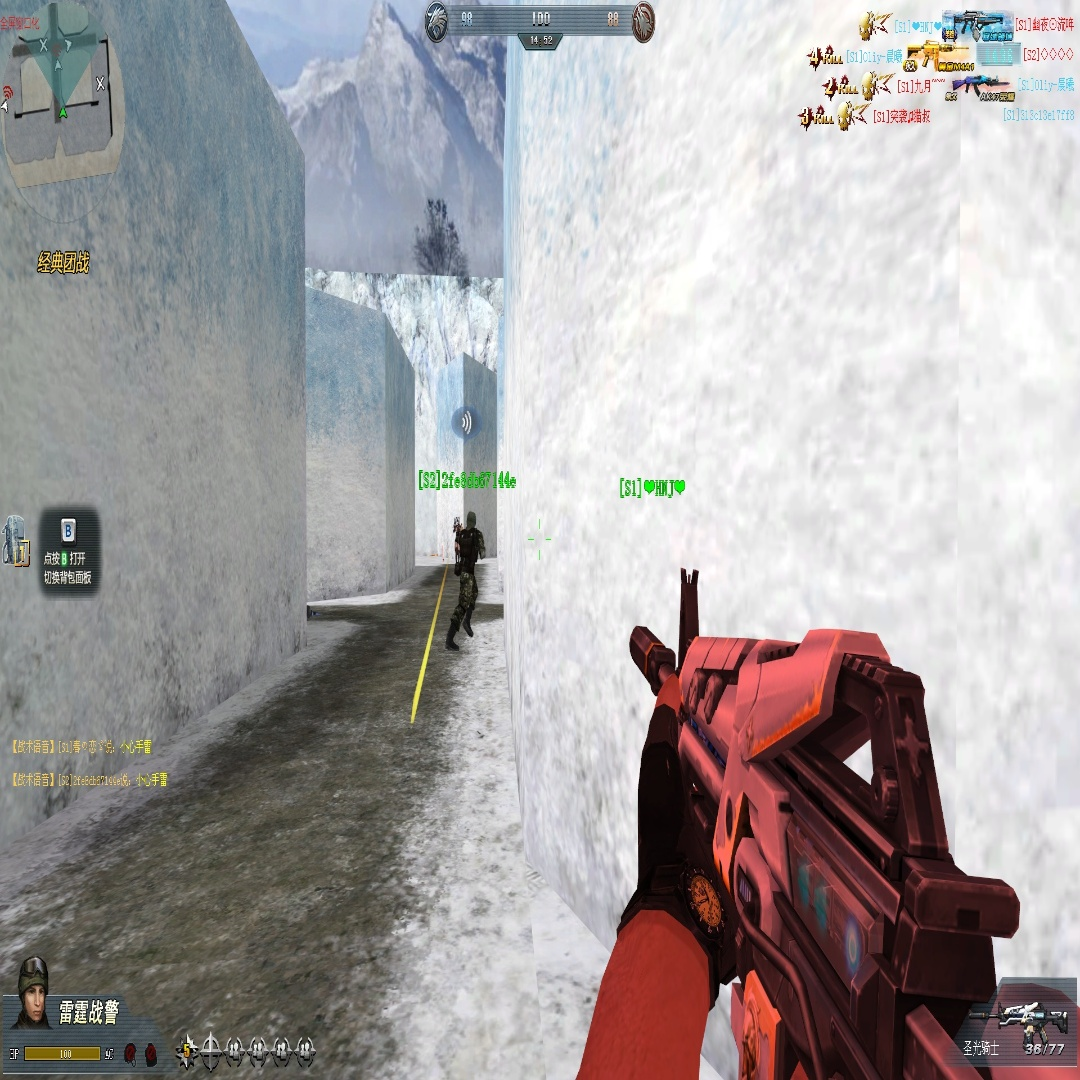ct: (444, 510, 487, 649)
